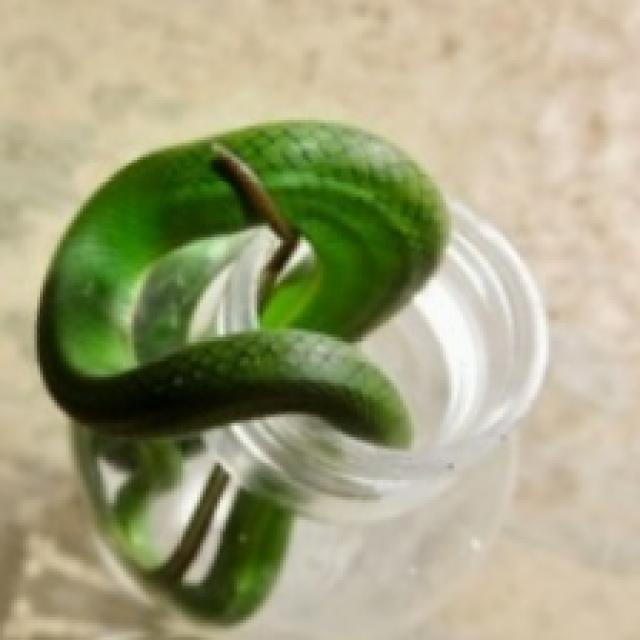red-tailed green ratsnake: (37, 120, 449, 620)
